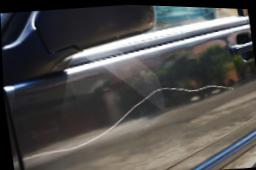Door: (13, 62, 256, 170)
